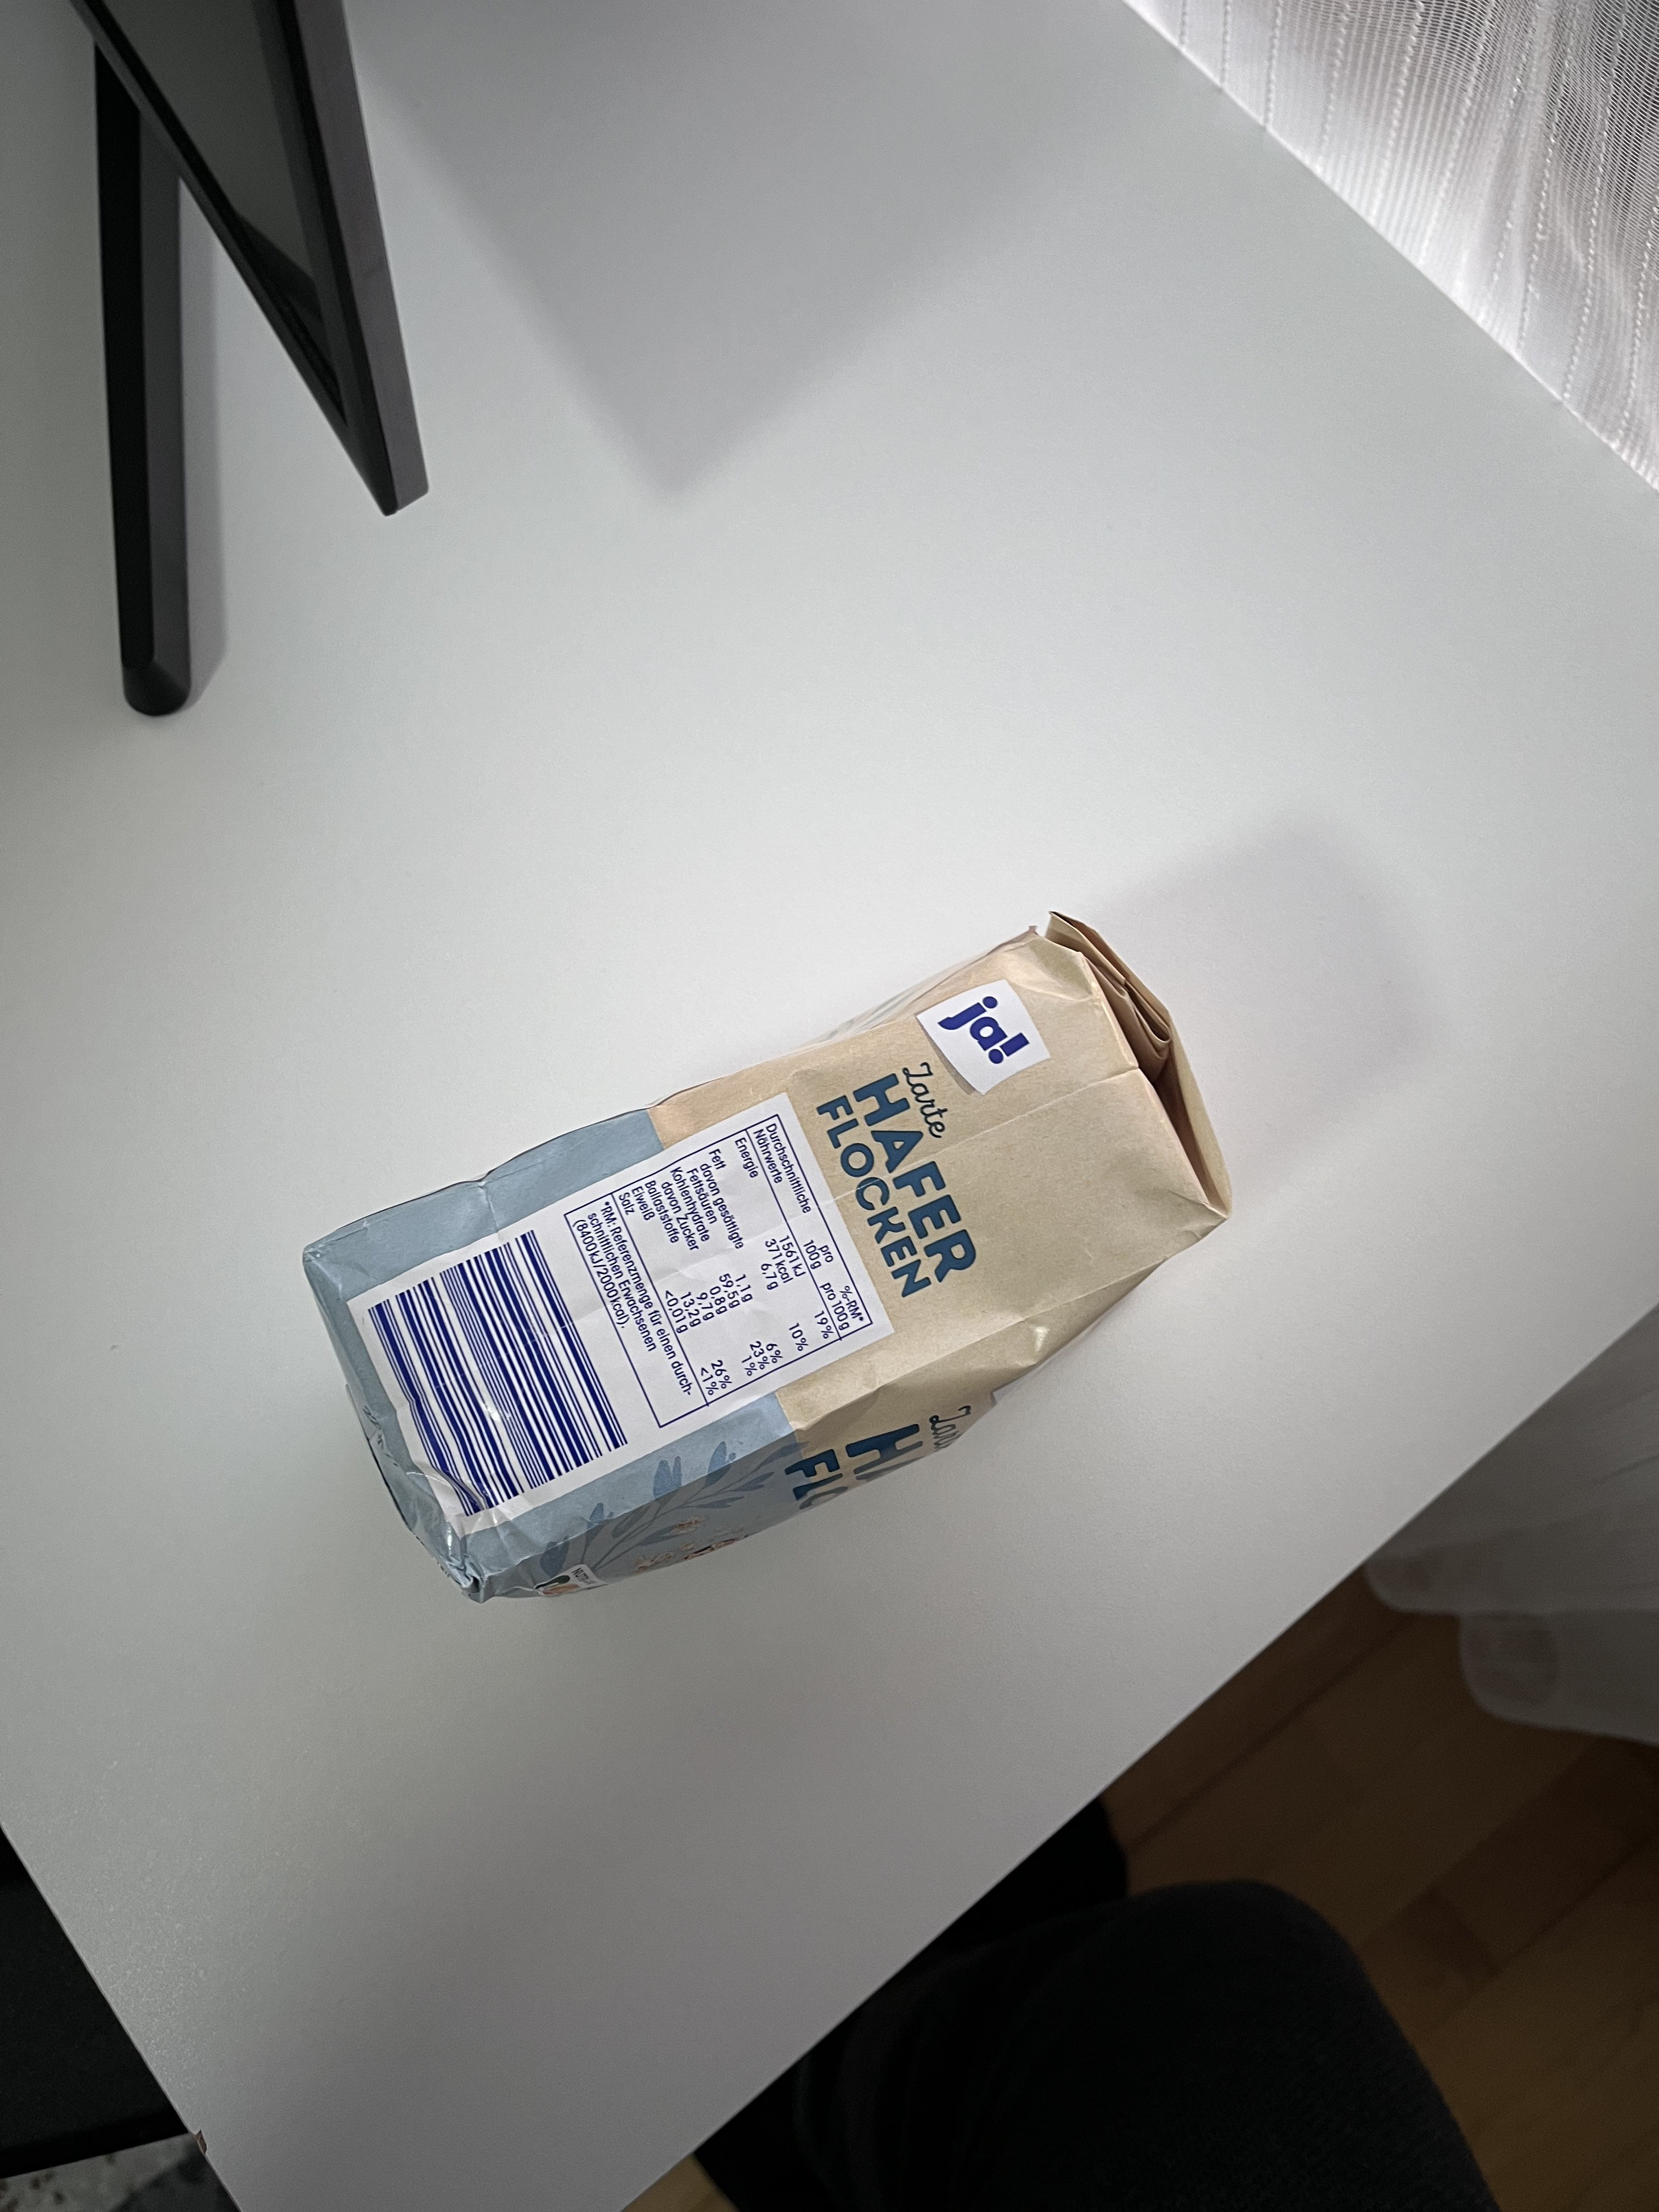haferflocken_ja: (303, 909, 1237, 1588)
